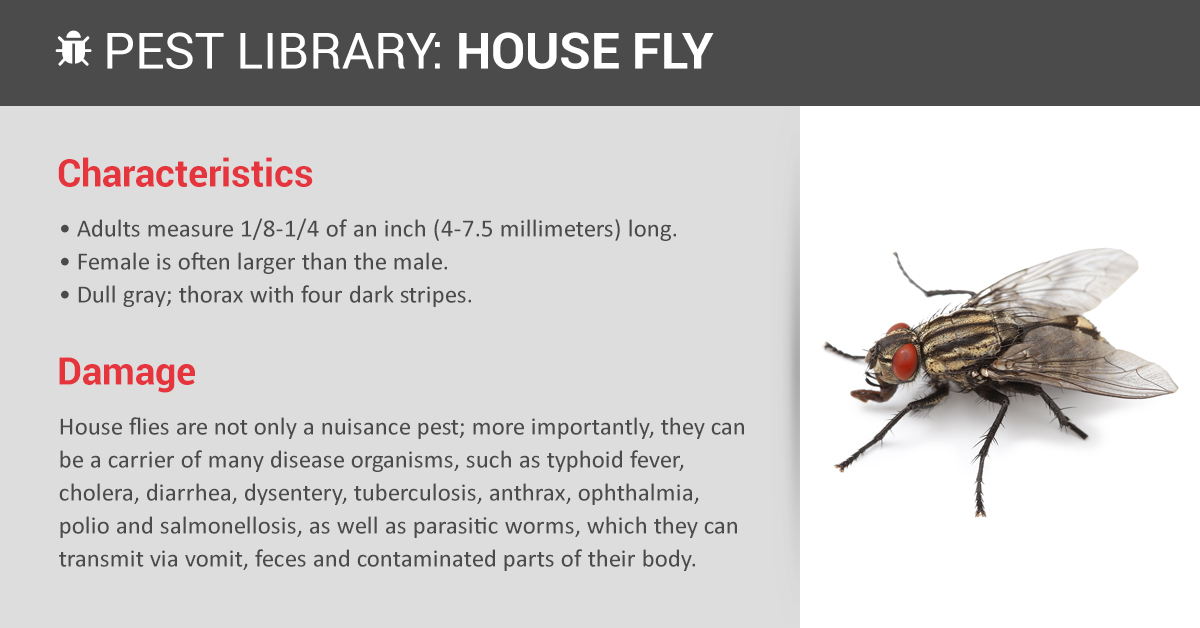fly: (822, 246, 1184, 518)
